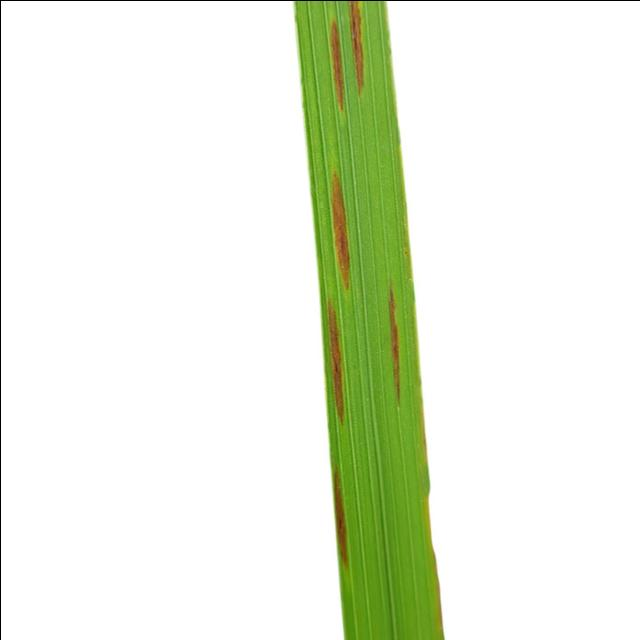Narrow brown: (276, 0, 474, 640)
